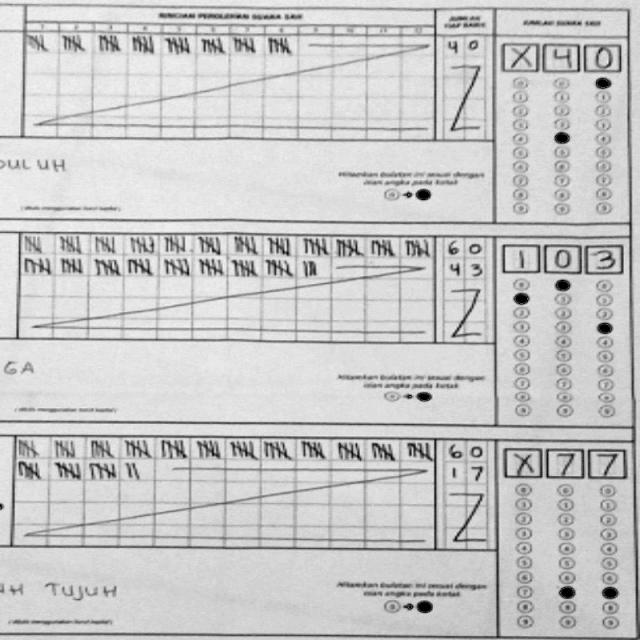Suara: (490, 30, 624, 76), (496, 440, 630, 481), (489, 242, 626, 272)
